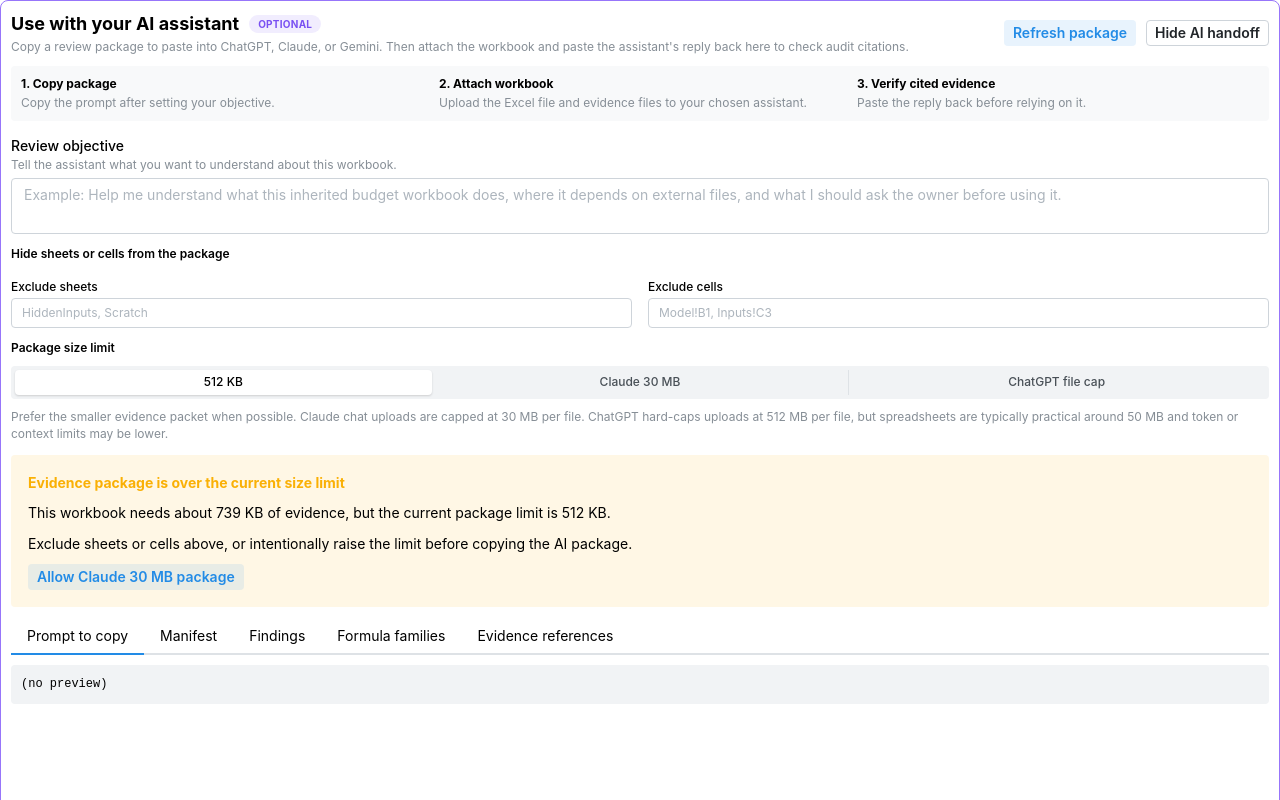
Test: UnderstandingPanel › lets the user raise the packet cap when a workbook exceeds the default
The width and height of the screenshot is (1280, 800).
Expected: the message with test id "understanding-error" shows "Evidence package is over the current size limit", 28,474 -> 345,491
Expected: the message with test id "understanding-error" shows "739 KB", 216,504 -> 263,521
Click the button with test id "increase-packet-limit". click: click(136, 577)
box: 28,564 -> 244,590
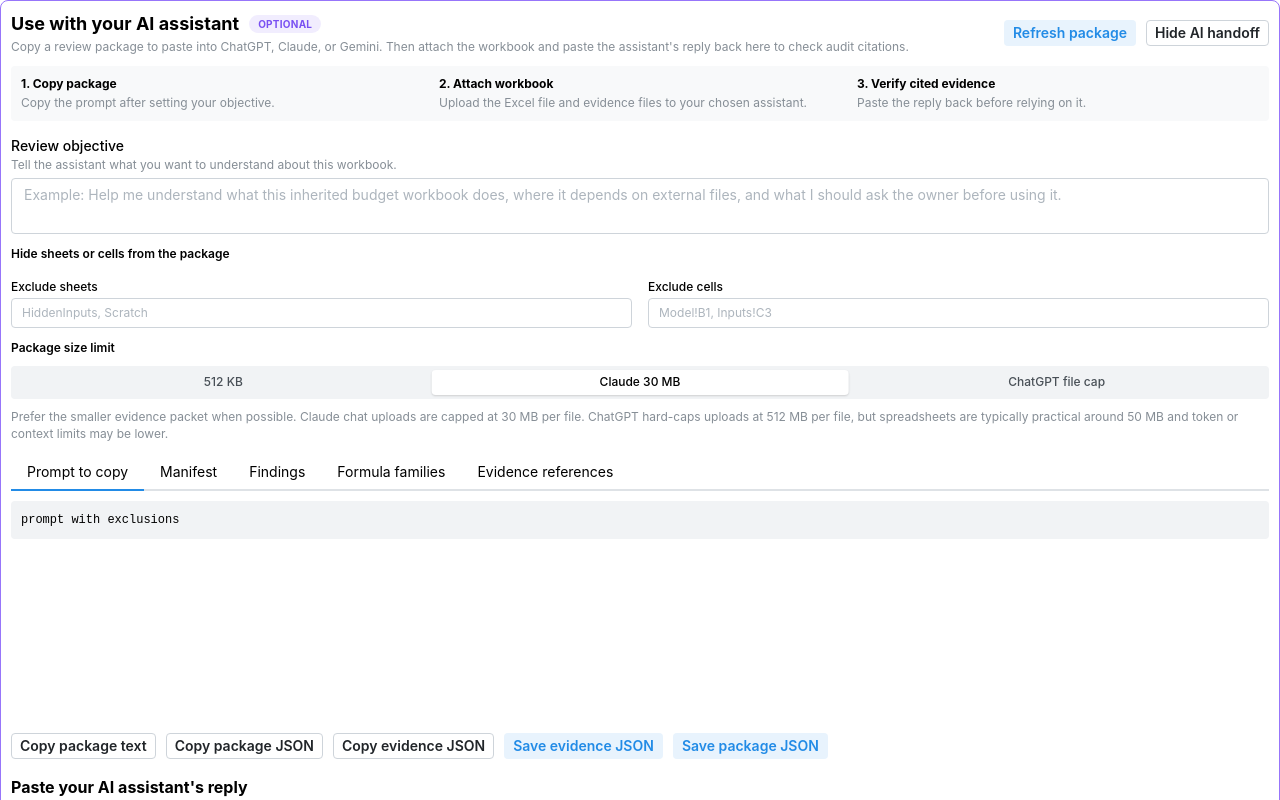
Now the element with test id "understanding-preview" reads "prompt with exclusions", box 21,513 -> 179,527
